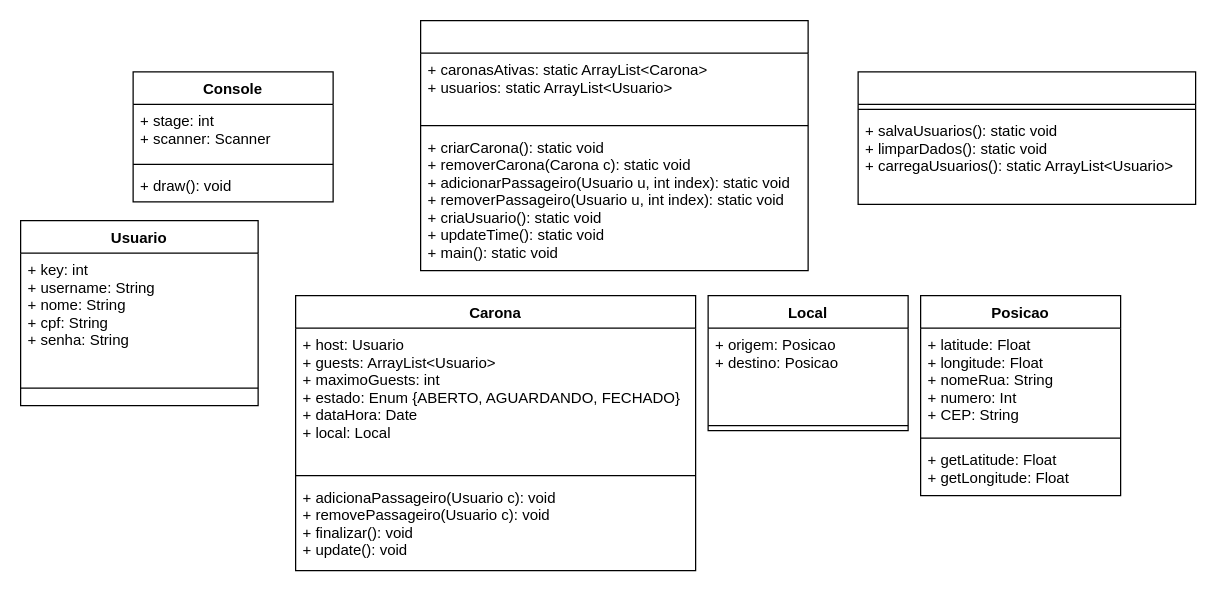
Image size: 1216x591. Some labels were removed from this diagram. Each missing label, with the box of its shape:
Auxiliar: (419, 19, 808, 271)
StorageManager: (857, 71, 1196, 204)
